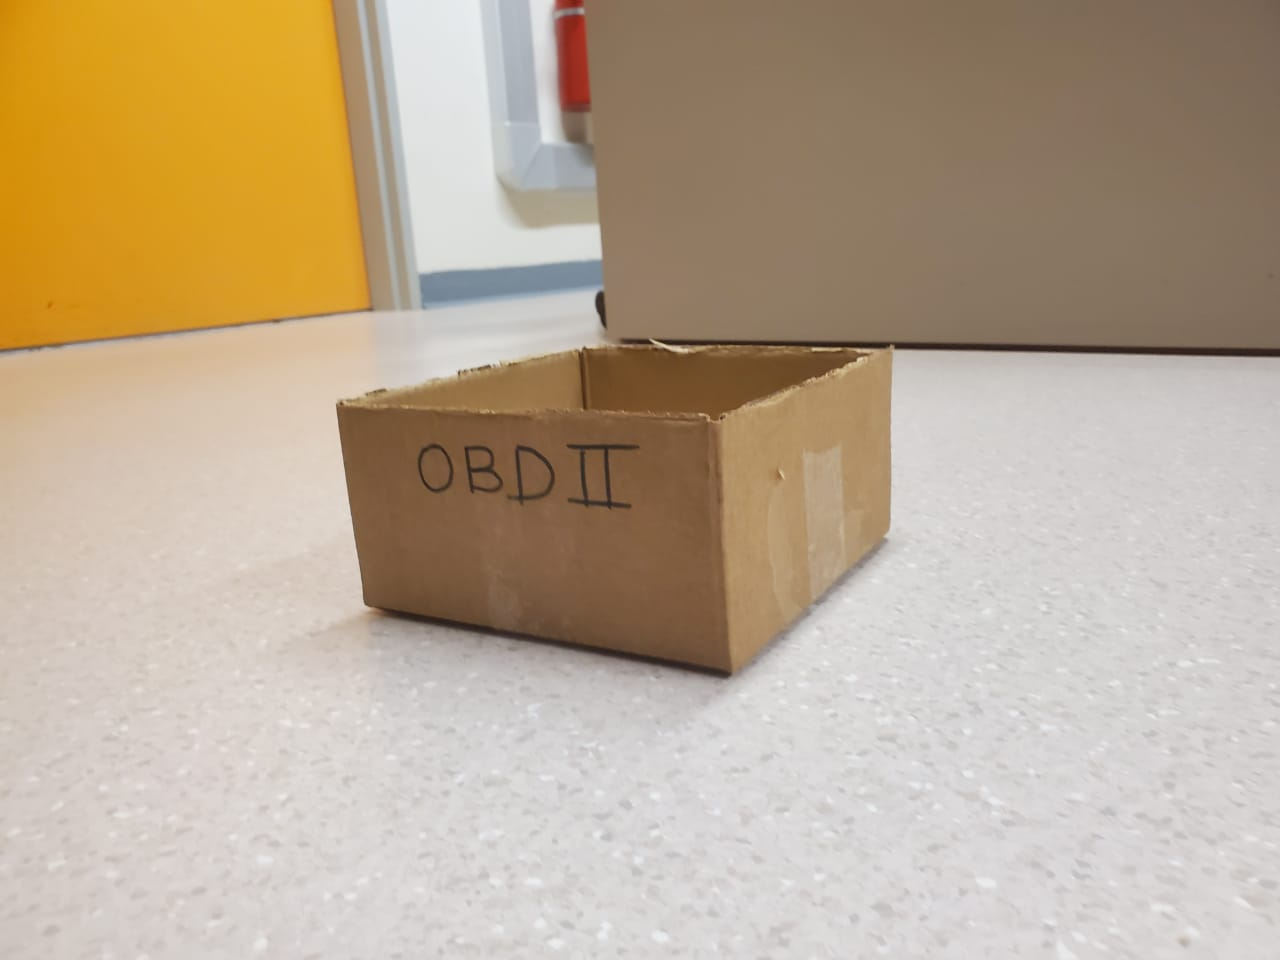CBox: (322, 330, 903, 681)
